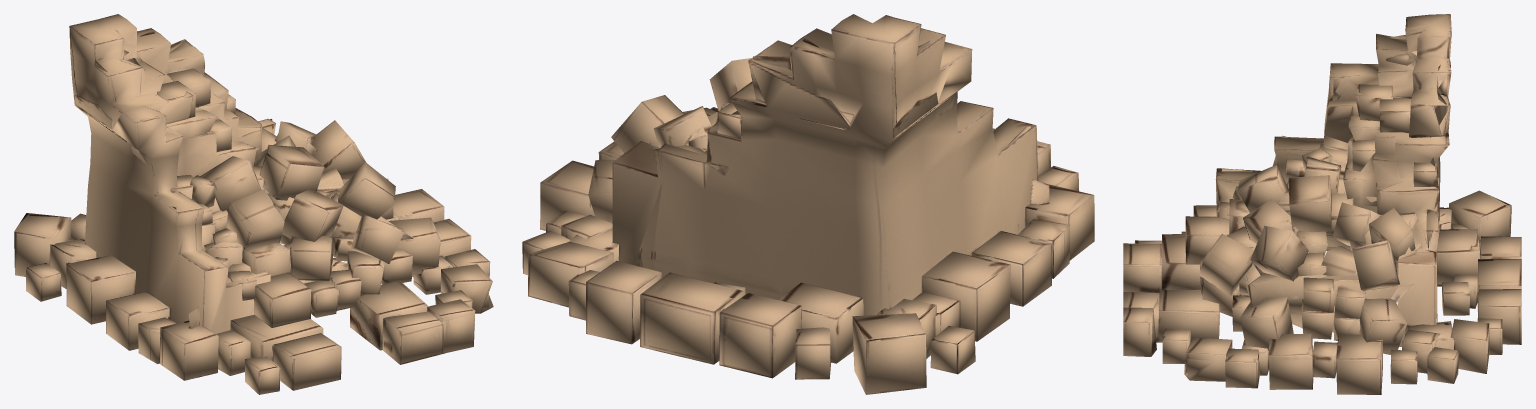
File: meshy-c3-d4.glb
The picture shows the model from 3 angles, left to right: view 1: azimuth 30°, elevation 25°; view 2: azimuth 150°, elevation 25°; view 3: azimuth 270°, elevation 25°; orthographic projection. The views are drawn at different scales.
Size of the model in its own units: 0.9906 by 0.6597 by 1.
Materials: 1 (1 with a texture image).
